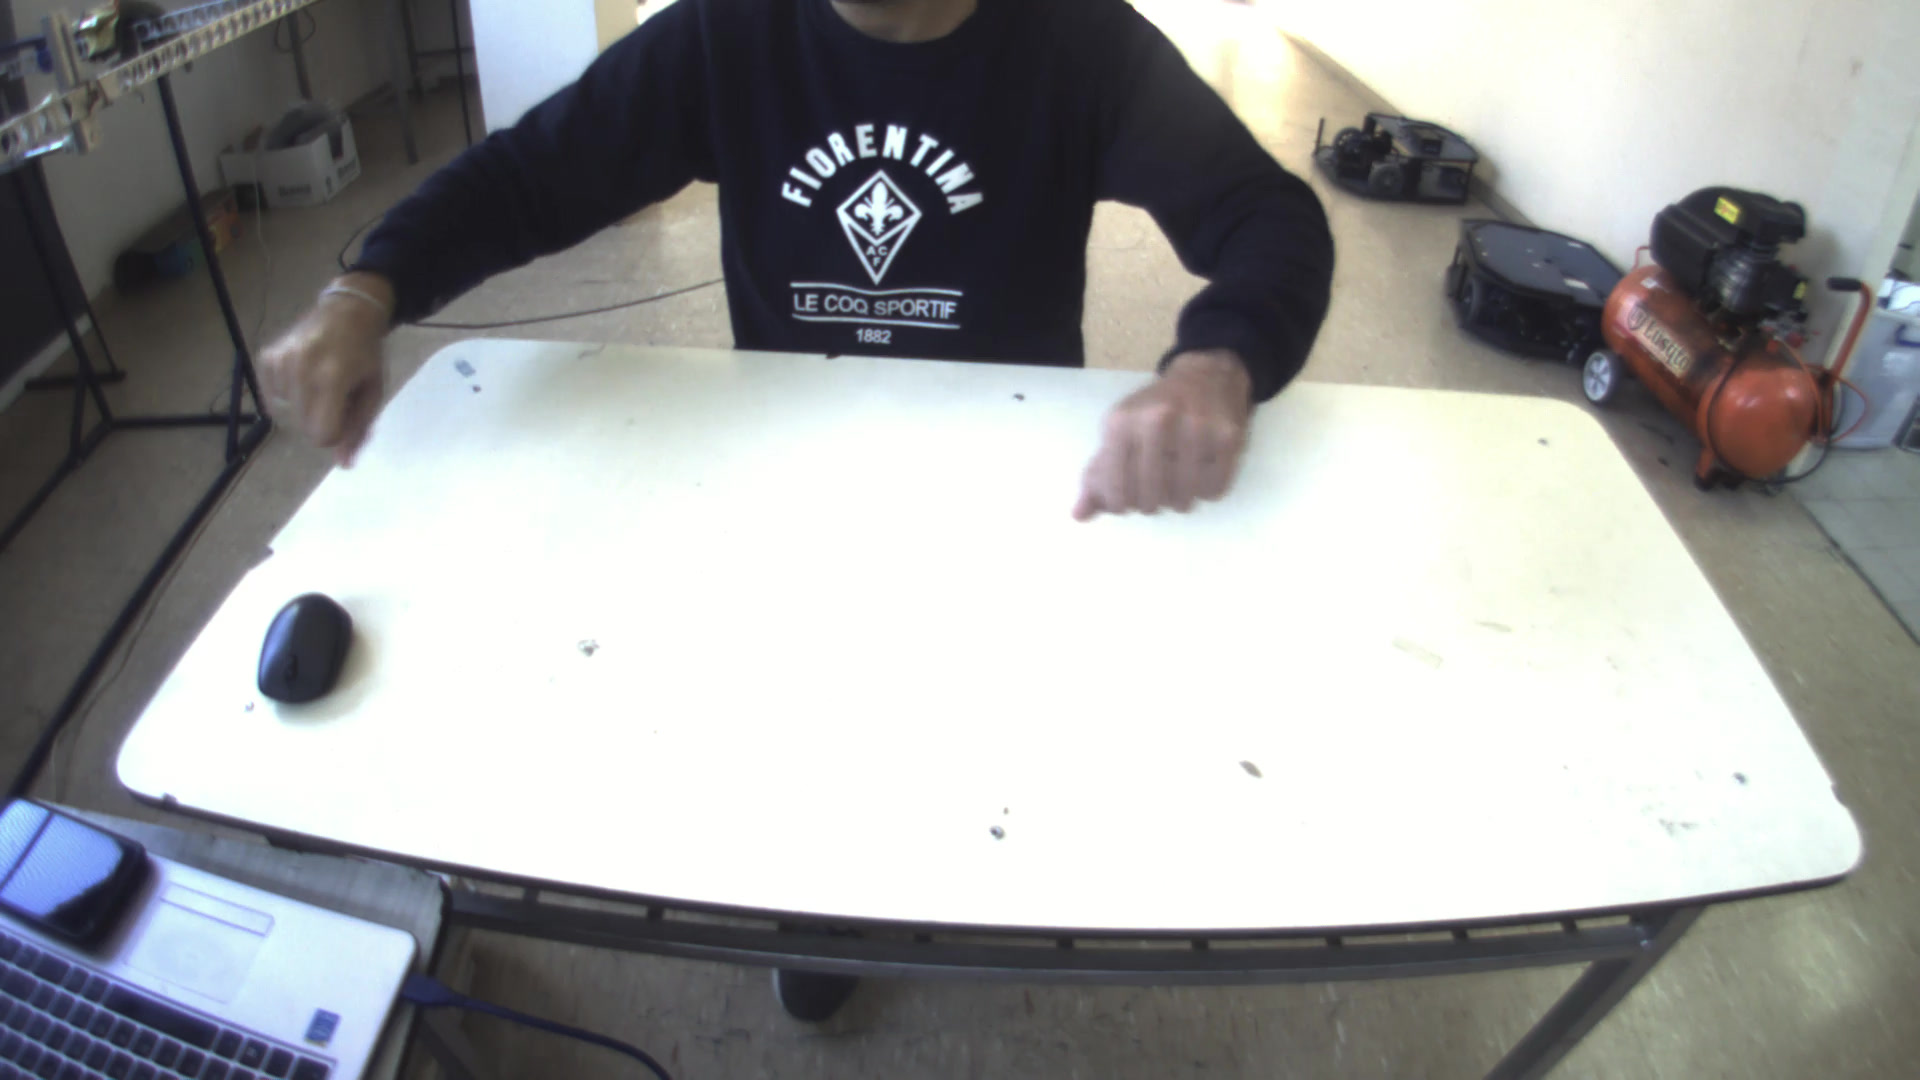hand: (1071, 339, 1266, 526), (251, 270, 385, 451)
